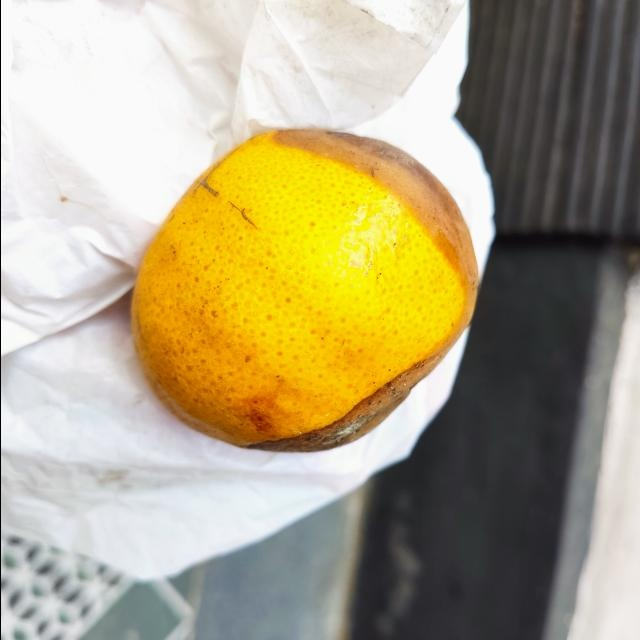agrume: (132, 127, 478, 455)
